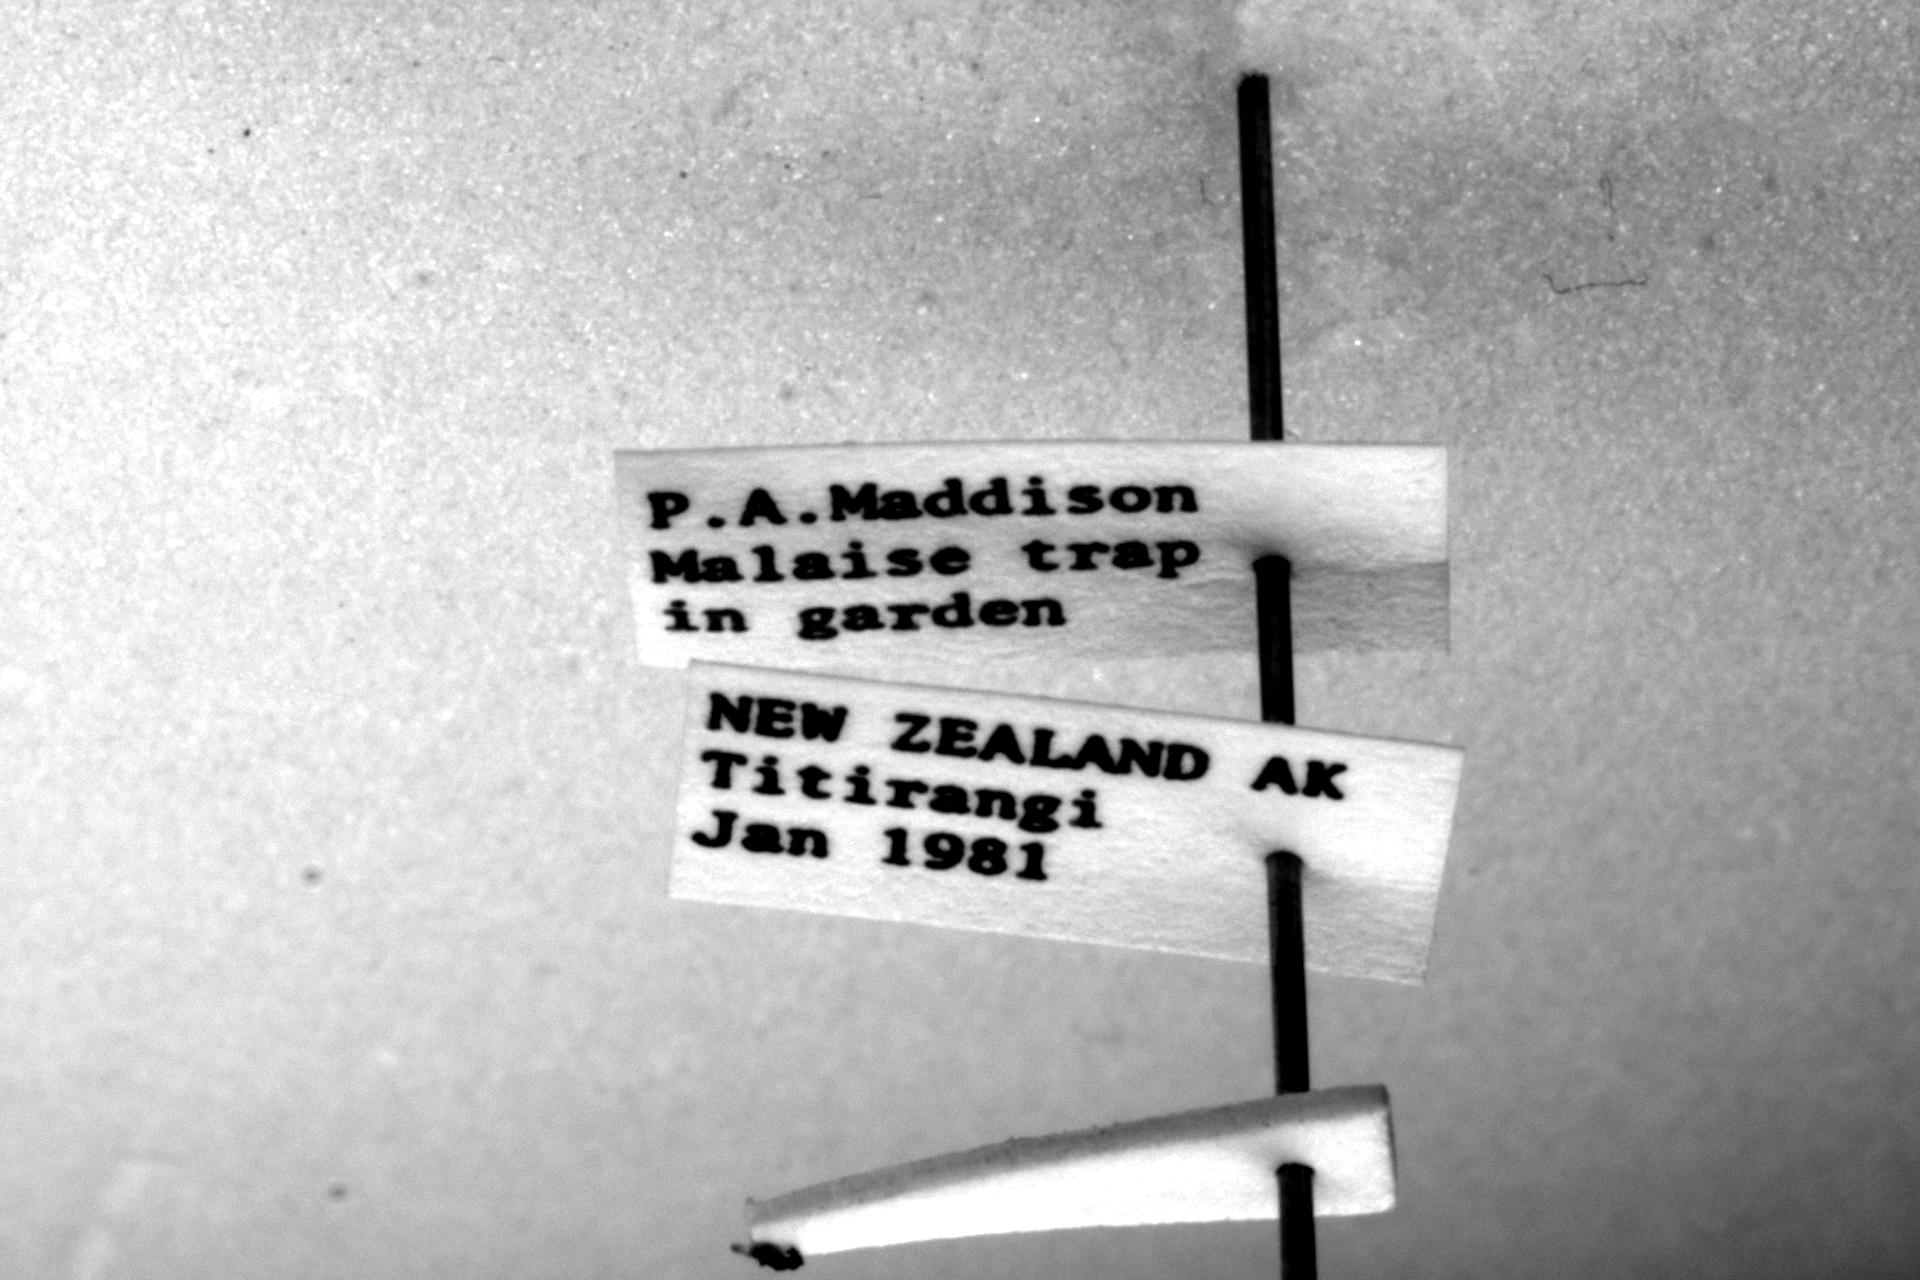typed_label: (671, 664, 1463, 983), (614, 443, 1447, 667)
